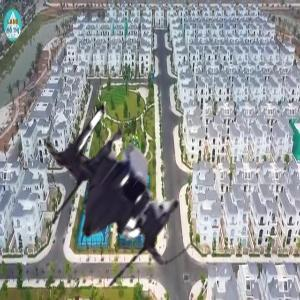drone: (17, 91, 218, 292)
